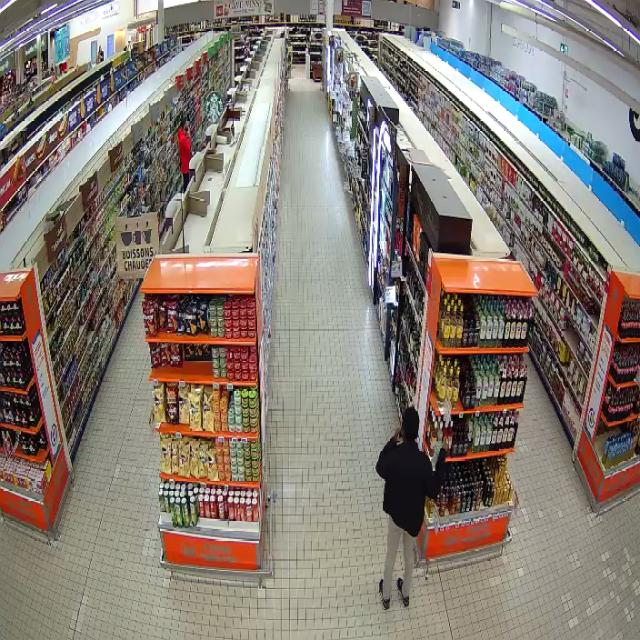article: (428, 441, 443, 467)
hands: (394, 427, 403, 443), (439, 447, 449, 461)
person: (376, 407, 446, 609)
